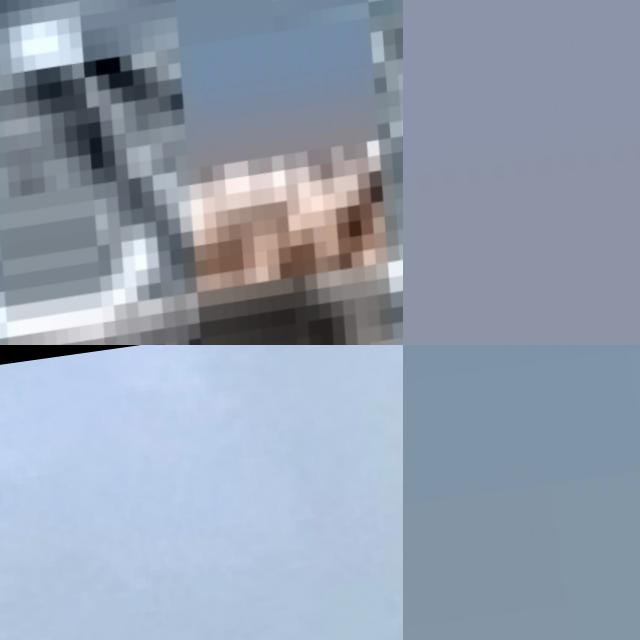drone: (0, 0, 403, 345)
